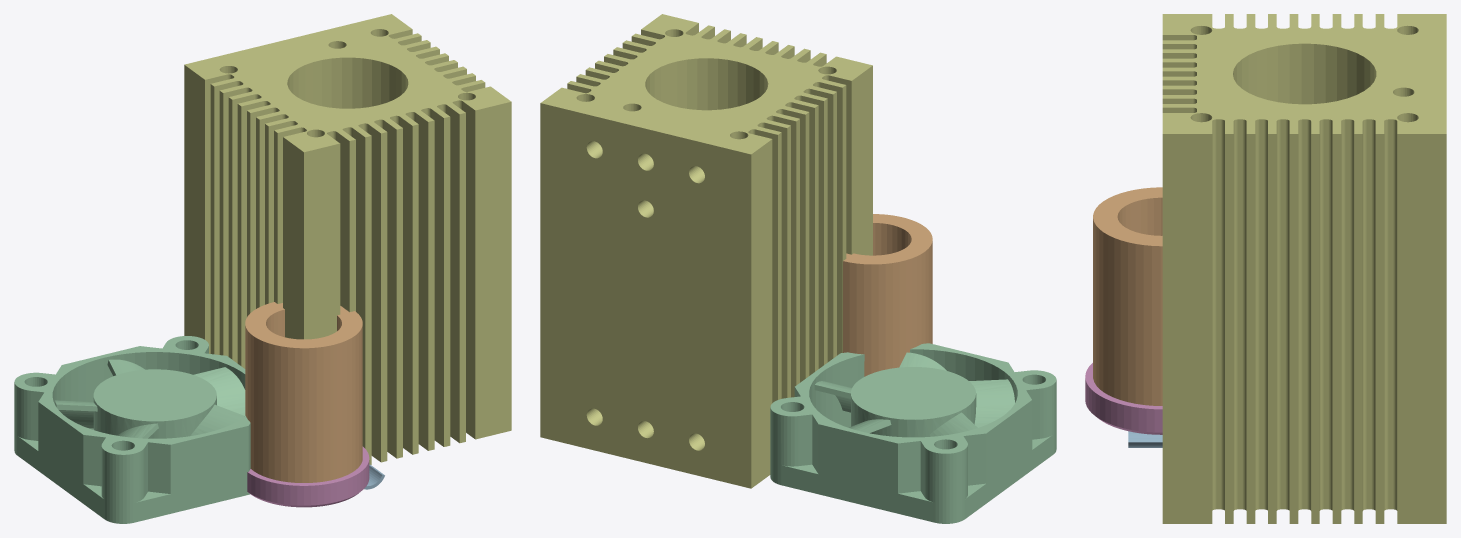
The model's file is case-04_qwen37.glb.
3 views of the same model, side by side, from view 1: azimuth 30°, elevation 25°; view 2: azimuth 150°, elevation 25°; view 3: azimuth 270°, elevation 25° (orthographic). The views are drawn at different scales.
Visible parts, largest first — view 1: c00001, c00008, c00003, c00002; view 2: c00001, c00008, c00003; view 3: c00001, c00003, c00002, c00006.
Part boxes in pixels (x1,y1,x2,y2): c00001: [184, 14, 511, 464]; c00008: [14, 336, 250, 523]; c00003: [245, 302, 362, 482]; c00002: [247, 446, 369, 507]; c00001: [540, 14, 872, 488]; c00008: [770, 343, 1056, 523]; c00003: [843, 214, 932, 376]; c00001: [1162, 14, 1446, 523]; c00003: [1093, 187, 1162, 405]; c00002: [1085, 363, 1162, 434]; c00006: [1128, 431, 1162, 447].
Size of the model in its own units: 63 by 51.5 by 42.
